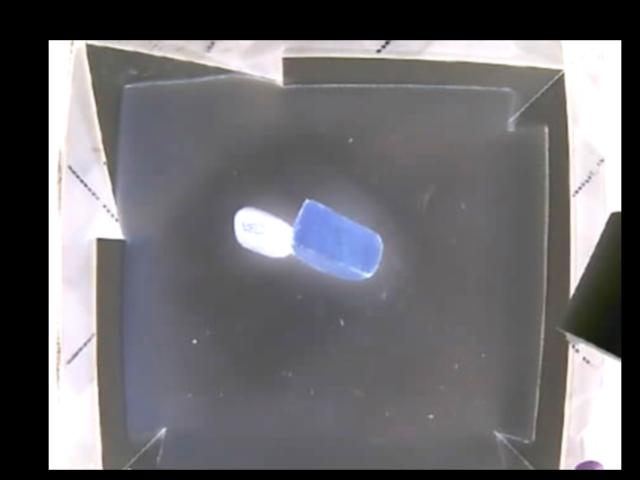Pebble: (232, 207, 293, 259)
Potato: (290, 199, 383, 278)
